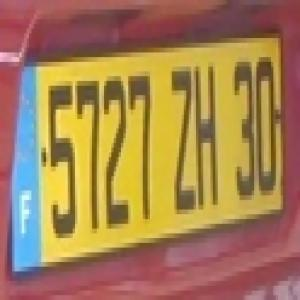Plate: (1, 28, 289, 278)
